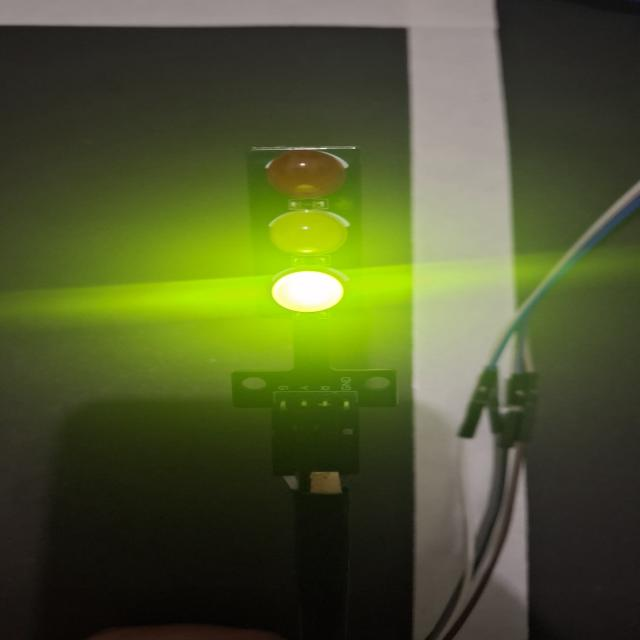Lampu Hijau: (247, 145, 367, 321)
